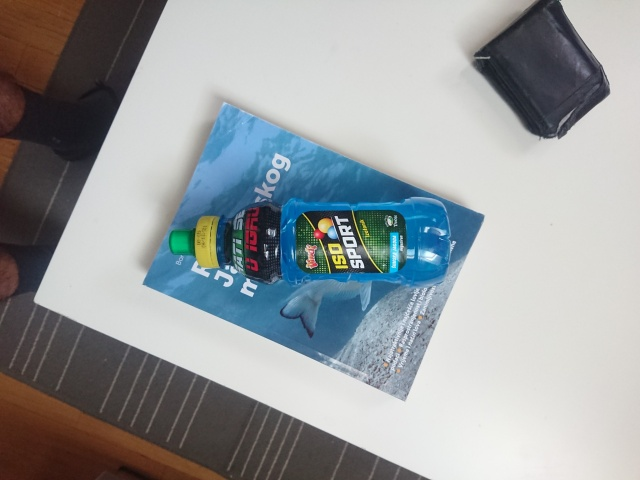Vindi Iso Sport Forest Strawberries 500mL: (166, 194, 452, 288)
